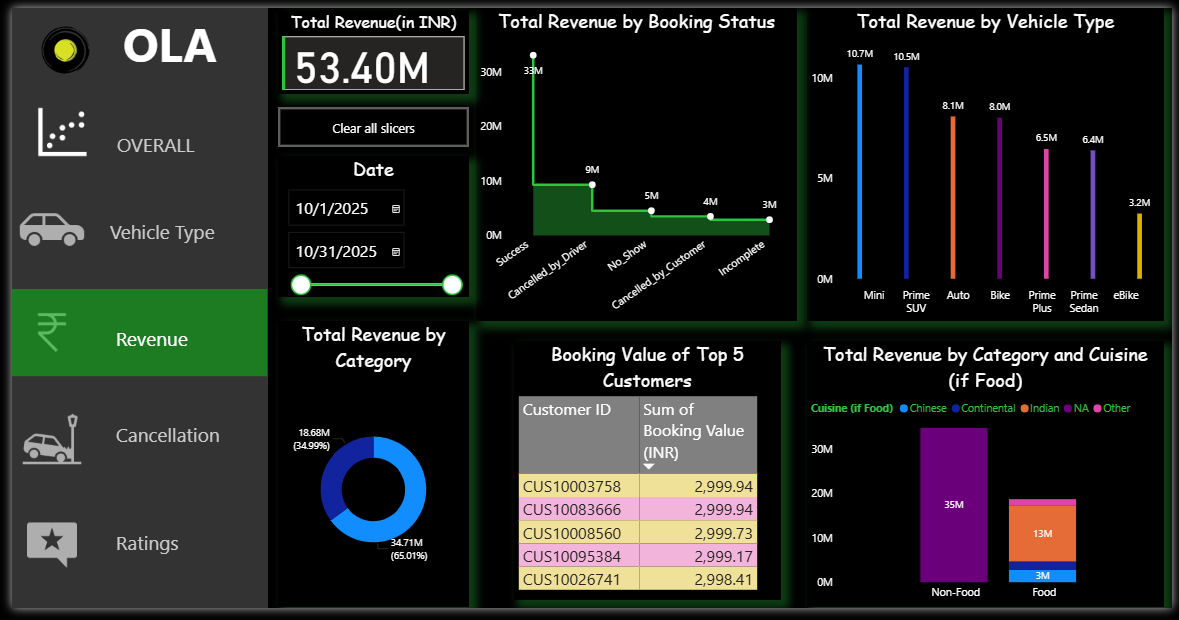

The dashboard page shown, as its layout file describes it:
{"tool":"powerbi","page":{"name":"Revenue","canvas":[1450,750],"ordinal":2},"visuals":[{"type":"shape","box":[0,0,318.8,748.8],"z":0},{"type":"textbox","box":[133.8,0,131.2,107.5],"z":1000},{"type":"textbox","box":[126.2,148.8,131.2,48.8],"z":2000},{"type":"textbox","box":[117.5,257.5,148.8,50],"z":3000},{"type":"image","box":[7.5,107.5,110,95],"z":4000},{"type":"image","box":[0,227.5,100,98.8],"z":5000},{"type":"image","box":[0,370,100,71.2],"z":6000},{"type":"image","box":[0,493.8,100,90],"z":7000},{"type":"image","box":[0,622.5,100,97.5],"z":8000},{"type":"textbox","box":[0,351.2,318.8,108.8],"z":9000},{"type":"actionButton","box":[0,493.8,312.5,100],"z":10000},{"type":"actionButton","box":[0,235.7,318.6,92.9],"z":11000},{"type":"actionButton","box":[0,480,318.8,113.8],"z":12000},{"type":"actionButton","box":[0,108.6,318.6,100],"z":13000},{"type":"image","box":[0,0,133.8,105],"z":14000},{"type":"textbox","box":[125,511.2,148.8,50],"z":15000},{"type":"textbox","box":[125,391.2,148.8,50],"z":16000},{"type":"textbox","box":[125,646.2,148.8,50],"z":17000},{"type":"actionButton","box":[0,622.5,318.8,113.8],"z":18000},{"type":"tableEx","title":"Booking Value of Top 5 Customers","fields":{"Values":["Bookings-OCT.Customer ID","Sum(Bookings-OCT.Booking Value (INR))"]},"box":[627.5,416.2,333.8,323.8],"z":19000},{"type":"cardVisual","title":"Total Revenue(in INR)","fields":{"Data":["Bookings-OCT.Total Revenue"]},"box":[332.5,2.5,238.8,105],"z":20000},{"type":"areaChart","title":"Total Revenue by Booking Status","fields":{"Category":["Bookings-OCT.Booking Status"],"Y":["Bookings-OCT.Total Revenue"]},"box":[580,0,401.4,391.4],"z":21000},{"type":"columnChart","fields":{"Y":["Bookings-OCT.Total Revenue"],"Series":["Bookings-OCT.Cuisine (if Food)"],"Category":["Bookings-OCT.Category"]},"box":[994.3,415.7,445.7,332.9],"z":22000},{"type":"clusteredColumnChart","title":"Total Revenue by Vehicle Type","fields":{"Category":["Bookings-OCT.Vehicle Type"],"Y":["Bookings-OCT.Total Revenue"],"Series":["Bookings-OCT.Vehicle Type"]},"box":[994.3,0,445.7,391.4],"z":23000},{"type":"actionButton","box":[332.5,123.8,238.8,50],"z":24000},{"type":"donutChart","fields":{"Category":["Bookings-OCT.Category"],"Y":["Bookings-OCT.Total Revenue"]},"box":[332.9,391.4,238.6,357.1],"z":25000},{"type":"slicer","title":"Date","fields":{"Values":["Bookings-OCT.Date"]},"box":[332.5,185,238.8,176.2],"z":26000}]}

Visuals, with their boxes in screenshot pixels (x1, y1, x2, y2), scaled from the page's 1450x750 canvas onto the 1179x620 screenshot:
shape: {"left": 0, "top": 0, "right": 259, "bottom": 619}
textbox: {"left": 109, "top": 0, "right": 215, "bottom": 89}
textbox: {"left": 103, "top": 123, "right": 209, "bottom": 163}
textbox: {"left": 96, "top": 213, "right": 217, "bottom": 254}
image: {"left": 6, "top": 89, "right": 96, "bottom": 167}
image: {"left": 0, "top": 188, "right": 81, "bottom": 270}
image: {"left": 0, "top": 306, "right": 81, "bottom": 365}
image: {"left": 0, "top": 408, "right": 81, "bottom": 483}
image: {"left": 0, "top": 515, "right": 81, "bottom": 595}
textbox: {"left": 0, "top": 290, "right": 259, "bottom": 380}
actionButton: {"left": 0, "top": 408, "right": 254, "bottom": 491}
actionButton: {"left": 0, "top": 195, "right": 259, "bottom": 272}
actionButton: {"left": 0, "top": 397, "right": 259, "bottom": 491}
actionButton: {"left": 0, "top": 90, "right": 259, "bottom": 172}
image: {"left": 0, "top": 0, "right": 109, "bottom": 87}
textbox: {"left": 102, "top": 423, "right": 223, "bottom": 464}
textbox: {"left": 102, "top": 323, "right": 223, "bottom": 365}
textbox: {"left": 102, "top": 534, "right": 223, "bottom": 576}
actionButton: {"left": 0, "top": 515, "right": 259, "bottom": 609}
"Booking Value of Top 5 Customers" tableEx: {"left": 510, "top": 344, "right": 782, "bottom": 612}
"Total Revenue(in INR)" cardVisual: {"left": 270, "top": 2, "right": 465, "bottom": 89}
"Total Revenue by Booking Status" areaChart: {"left": 472, "top": 0, "right": 798, "bottom": 324}
columnChart - Bookings-OCT.Total Revenue x Bookings-OCT.Cuisine (if Food): {"left": 808, "top": 344, "right": 1171, "bottom": 619}
"Total Revenue by Vehicle Type" clusteredColumnChart: {"left": 808, "top": 0, "right": 1171, "bottom": 324}
actionButton: {"left": 270, "top": 102, "right": 465, "bottom": 144}
donutChart - Bookings-OCT.Category x Bookings-OCT.Total Revenue: {"left": 271, "top": 324, "right": 465, "bottom": 619}
"Date" slicer: {"left": 270, "top": 153, "right": 465, "bottom": 299}
